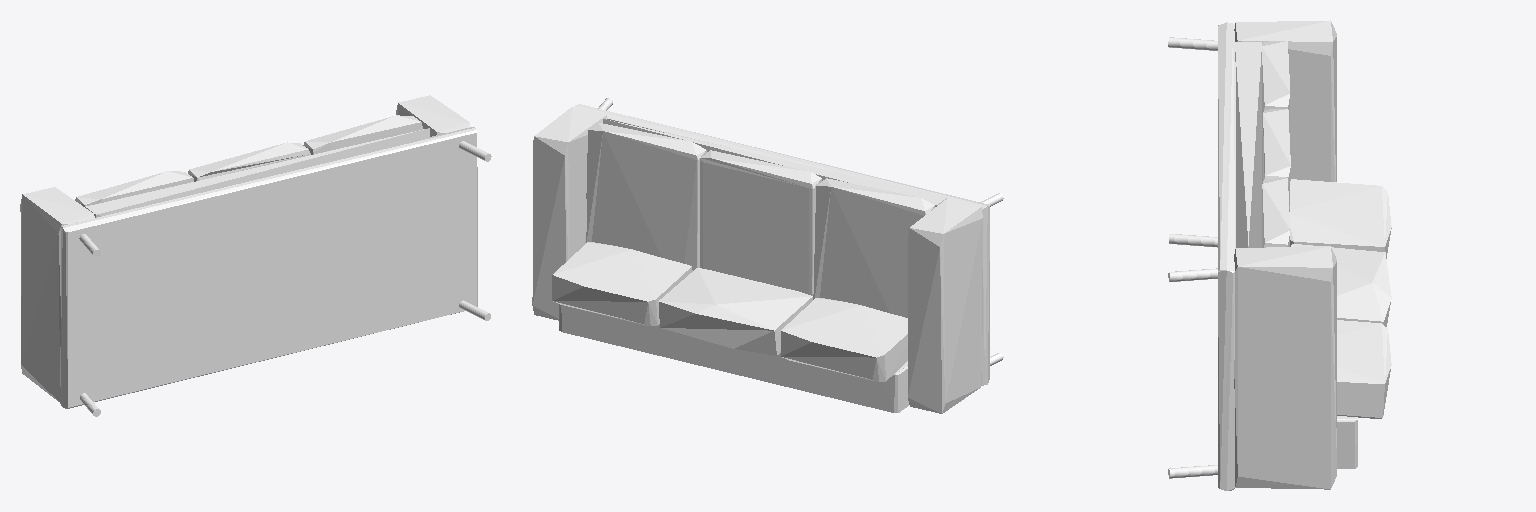
URDF robot description (simple_couch5.obj):
<robot name="simple_couch5.obj">
	<link name="_name">
		<visual>
			<origin xyz="0 0 0" rpy="0 0 0" />
			<geometry>
				<mesh filename="simple_couch5.obj" scale="1.0 1.0 1.0" />
			</geometry>
			<material name="texture">
				<color rgba="1.0 1.0 1.0 1.0" />
			</material>
		</visual>
		<collision>
			<geometry>
				<mesh filename="simple_couch5_vhacd.obj" scale="1.0 1.0 1.0" />
			</geometry>
		</collision>
		<inertial>
			<mass value="1.0" />
			<inertia ixx="1.0" ixy="0.0" ixz="0.0" iyy="1.0" iyz="0.0" izz="1.0" />
		</inertial>
	</link>
</robot>

--- Facts derived from the render (not from the file) ---
3 views of the same robot in one strip: view 1: azimuth 30°, elevation 25°; view 2: azimuth 150°, elevation 25°; view 3: azimuth 270°, elevation 25° (orthographic).
Model simple_couch5.obj with 1 links and 0 joints (none), rooted at _name, posed every joint at zero.
Visible links, largest first — view 1: _name; view 2: _name; view 3: _name.
Link boxes in pixels (box(x1,y1,x2,y2)): _name: box(20, 95, 491, 416); _name: box(532, 98, 1003, 413); _name: box(1168, 20, 1391, 490).
Size in the robot's own frame: 2 by 0.7612 by 0.8604 metres.
Meshes: 1 distinct files referenced, 1 mesh visuals loaded (1 OBJ).